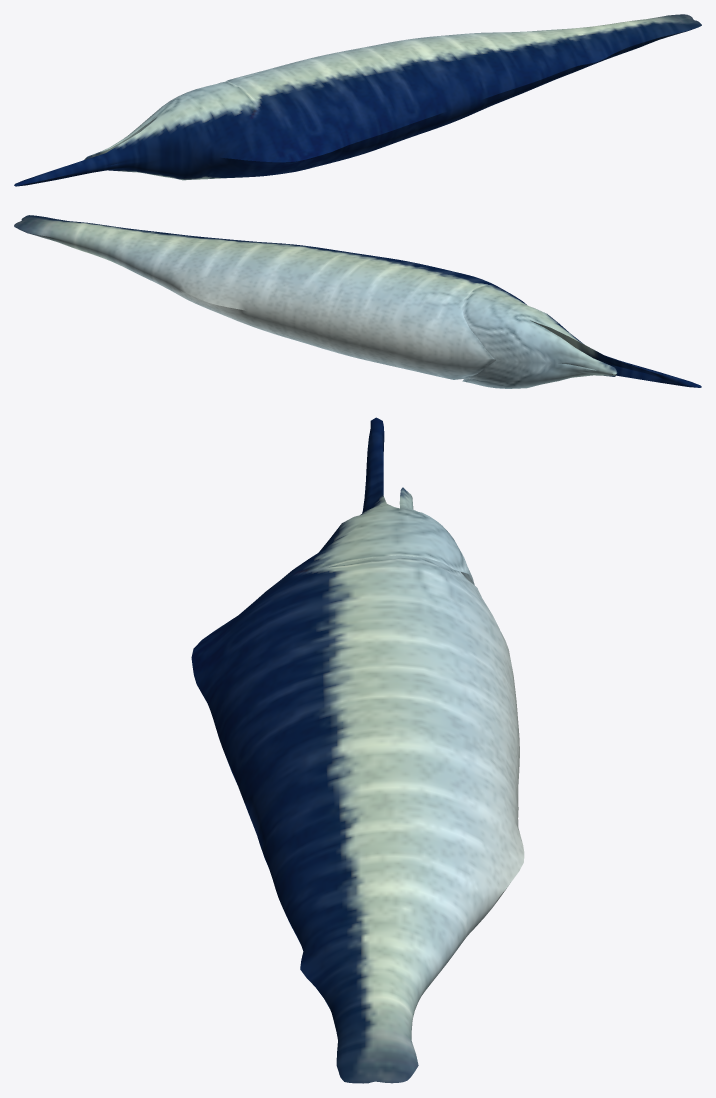
The model's file is BMtest.obj.
3 views of the same model, one above another, from view 1: azimuth 30°, elevation 25°; view 2: azimuth 150°, elevation 25°; view 3: azimuth 270°, elevation 25° (orthographic). The views are drawn at different scales.
Visible parts, largest first — view 1: object; view 2: object; view 3: object.
Part boxes in pixels (x1=…): object: x1=14, y1=14, x2=701, y2=186; object: x1=14, y1=215, x2=701, y2=388; object: x1=191, y1=417, x2=524, y2=1083.
Bounding box in the file's own units: 0.3596 × 0.0428 × 0.0761.
1 material, 1 textured.
